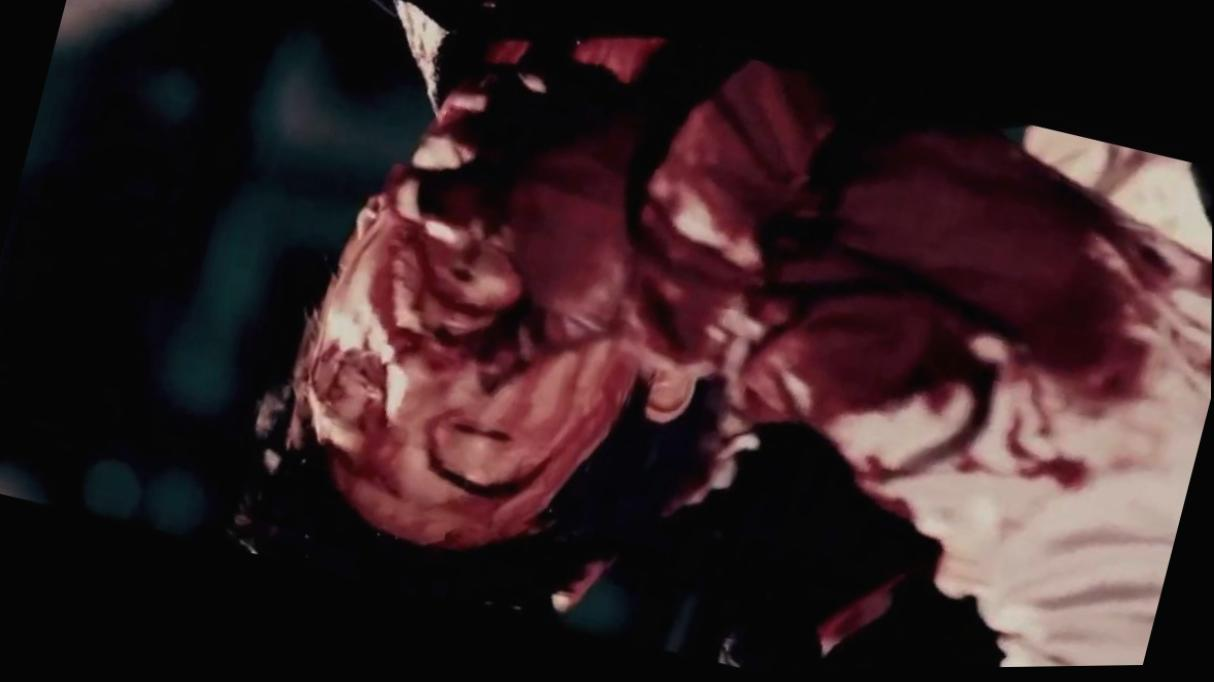Fire: (259, 31, 1212, 558), (663, 416, 759, 518)
